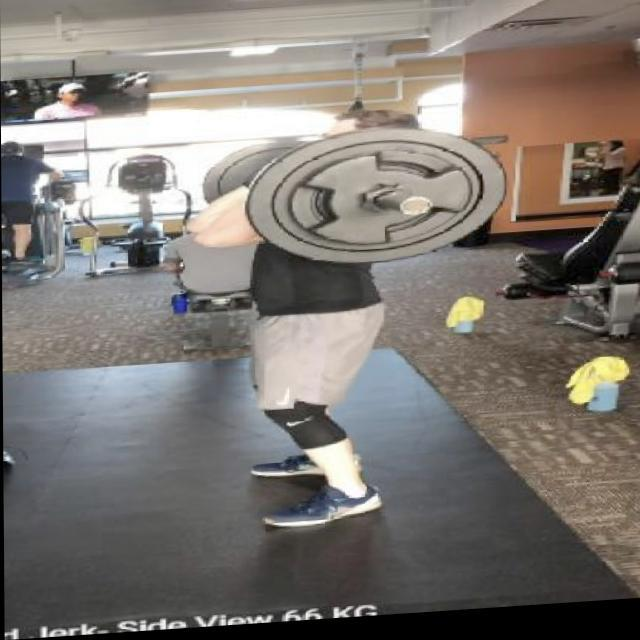barbell: (244, 122, 511, 278)
